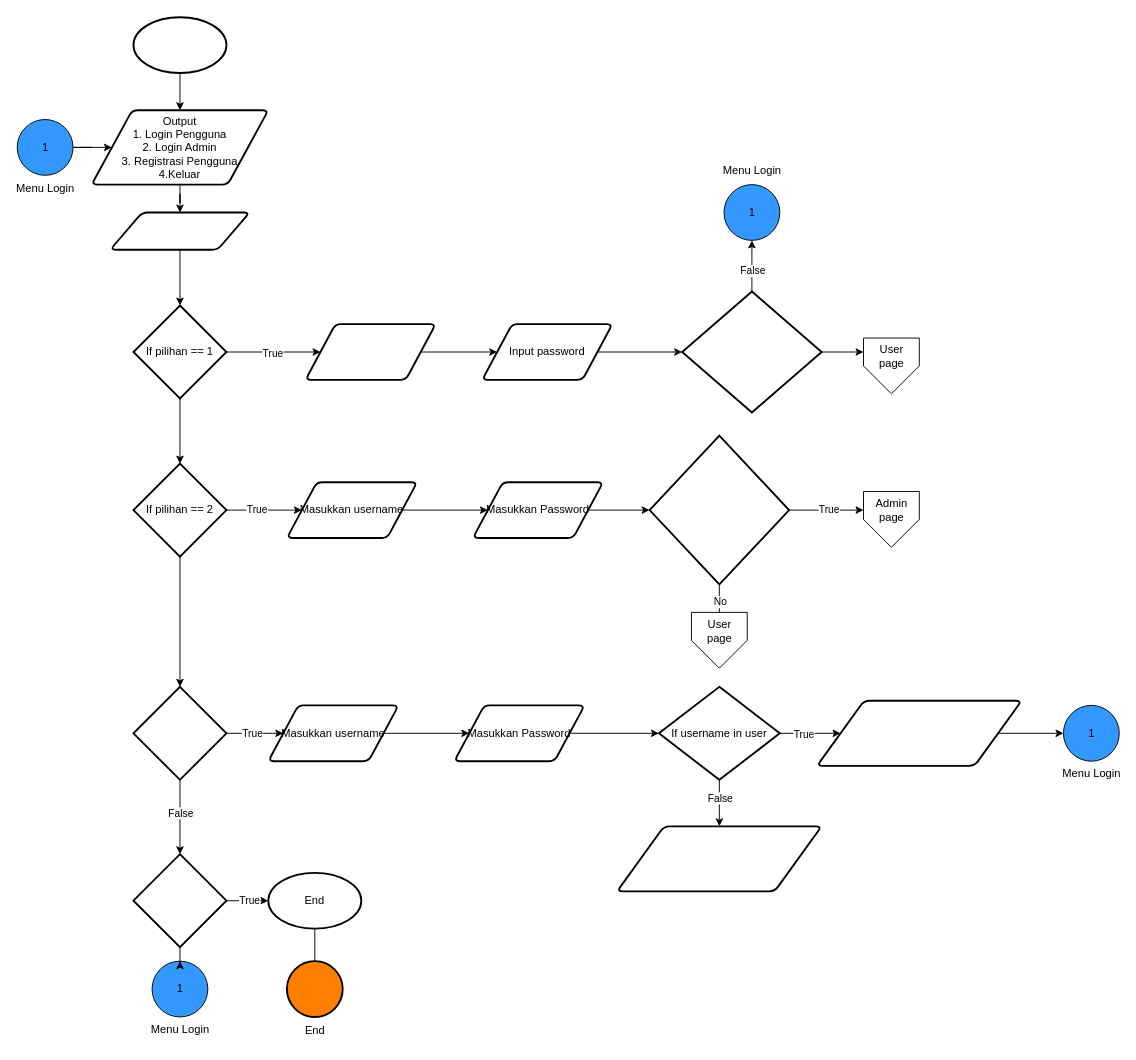
Some shapes in this 1136 by 1060 pixel diagram are drawn without their labels. Here are the shapes that lost their labels. From the top down, the box of each, then its label:
(132, 16, 227, 73): Mulai
(109, 211, 250, 250): Input pilihan
(304, 323, 436, 380): Input username
(681, 290, 822, 413): Apakah User adalah Pengguna/User atau bukan
(648, 434, 790, 585): Apakah user adalah admin atau bukan
(132, 685, 227, 780): If pilihan == 3
(816, 699, 1022, 766): Output User berhasil terdaftar
(616, 825, 822, 892): Output Username telah di gunakan
(132, 853, 227, 948): If pilihan == 4
